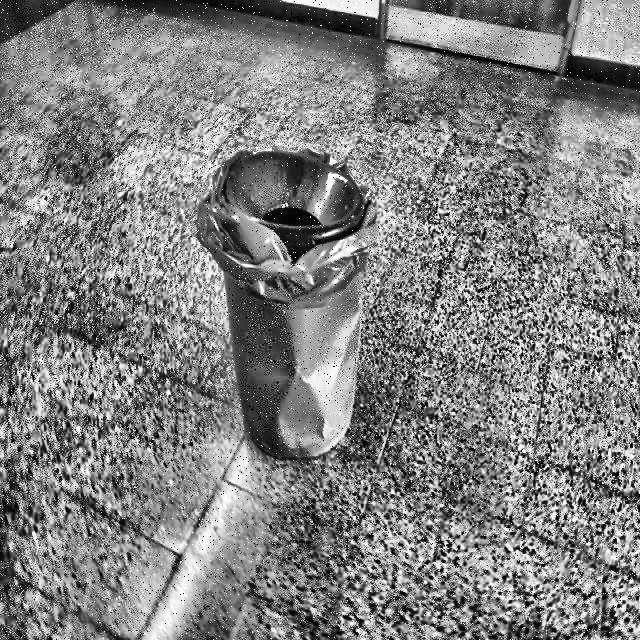Dustbin: (158, 104, 418, 508)
